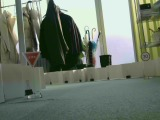speed_30: (139, 50, 151, 62)
stop: (21, 51, 40, 68)
